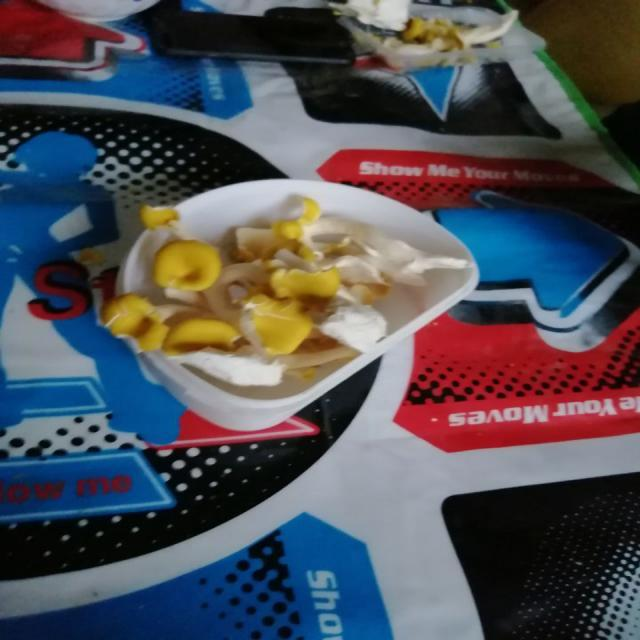Pleurotus citrinopileatus: (98, 195, 470, 389)
